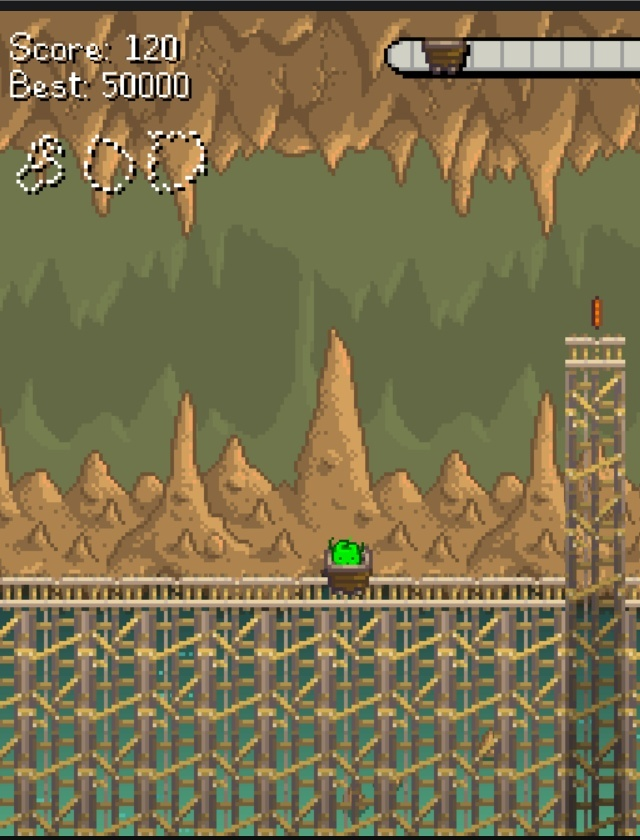coins: (591, 296, 602, 329)
minecart: (323, 540, 371, 593)
tracks: (0, 576, 565, 608), (566, 336, 625, 369)
